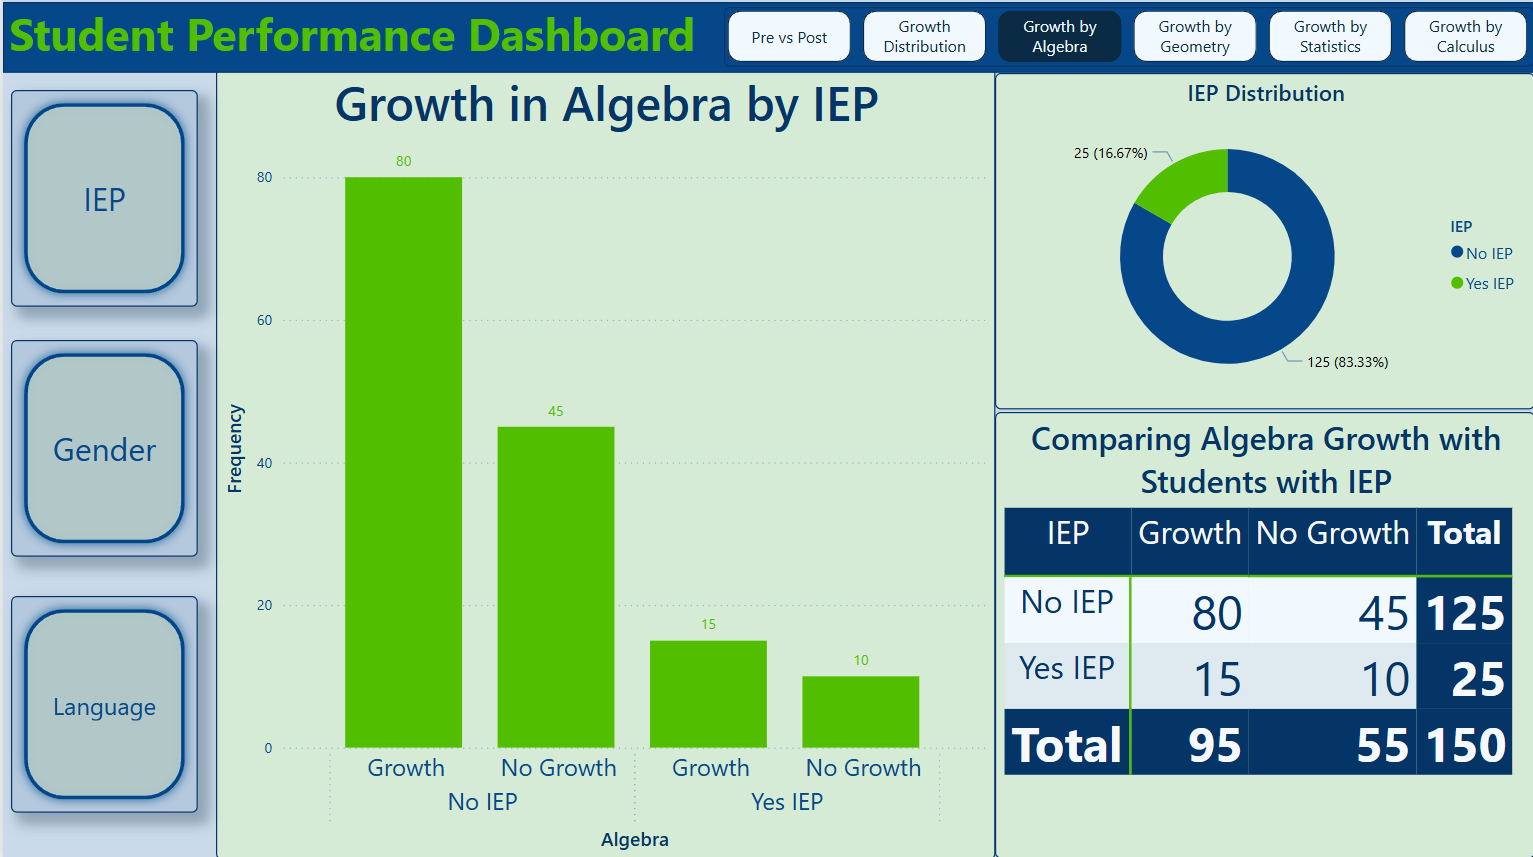

The page's visual inventory and layout, read from the dashboard file:
{"tool":"powerbi","page":{"name":"Growth by Algebra","canvas":[1280,720],"ordinal":2},"visuals":[{"type":"clusteredColumnChart","title":"Growth in Algebra by IEP","fields":{"Category":["Student_info.IEP","test_diff_cat.Algebra"],"Y":["test_diff_cat.Count_Responses"]},"box":[178.2,58,650.6,663.3],"z":0},{"type":"shape","box":[0,4.2,1280,59.2],"z":4000},{"type":"donutChart","title":"IEP Distribution","fields":{"Y":["CountNonNull(Student_info.IEP)"],"Category":["Student_info.IEP"]},"box":[828.8,63.6,451.2,281.5],"z":5000},{"type":"pivotTable","title":"Comparing Algebra Growth with Students with IEP","fields":{"Rows":["Student_info.IEP"],"Columns":["test_diff_cat.Algebra"],"Values":["test_diff_cat.Count_Responses"]},"box":[828.8,346.5,451.2,373.4],"z":9000},{"type":"actionButton","box":[7.1,78,156.1,180.9],"z":13000},{"type":"actionButton","box":[7.1,286.4,156.1,180.9],"z":14000},{"type":"actionButton","box":[7.1,500.1,156.1,180.9],"z":15000},{"type":"textbox","box":[0,0,602.6,63.9],"z":16000},{"type":"pageNavigator","box":[602.6,8,677.4,49.9],"z":17000}]}

Visuals, with their boxes in screenshot pixels (x1, y1, x2, y2), scaled from the page's 1280x720 canvas onto the 1533x857 screenshot:
"Growth in Algebra by IEP" clusteredColumnChart: select_region(213, 69, 993, 856)
shape: select_region(0, 5, 1532, 75)
"IEP Distribution" donutChart: select_region(993, 76, 1532, 411)
"Comparing Algebra Growth with Students with IEP" pivotTable: select_region(993, 412, 1532, 856)
actionButton: select_region(9, 93, 195, 308)
actionButton: select_region(9, 341, 195, 556)
actionButton: select_region(9, 595, 195, 811)
textbox: select_region(0, 0, 722, 76)
pageNavigator: select_region(722, 10, 1532, 69)
